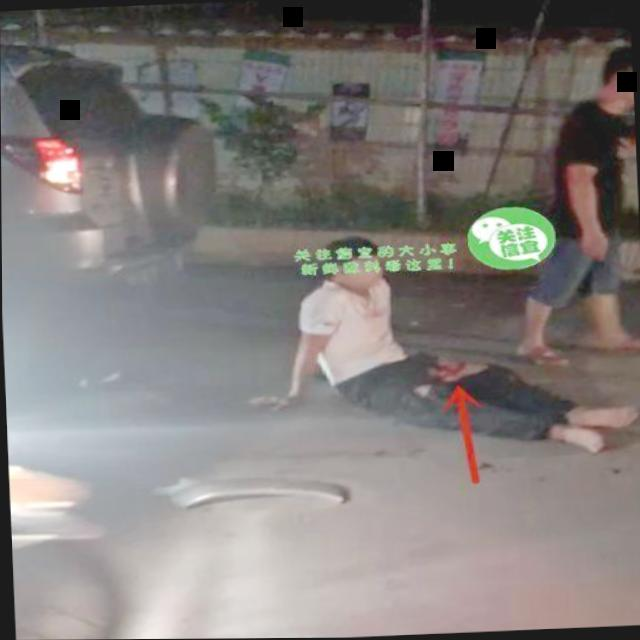Fall-Detected: (241, 212, 640, 471)
